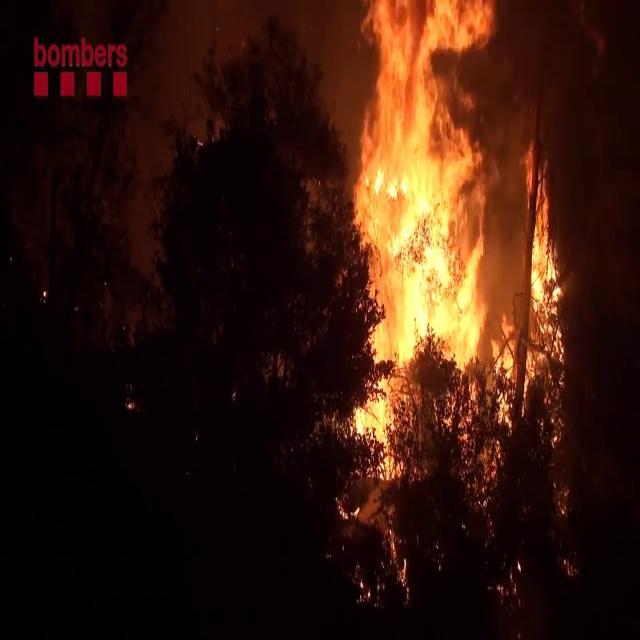Fire: (336, 0, 494, 412), (491, 129, 571, 442)
